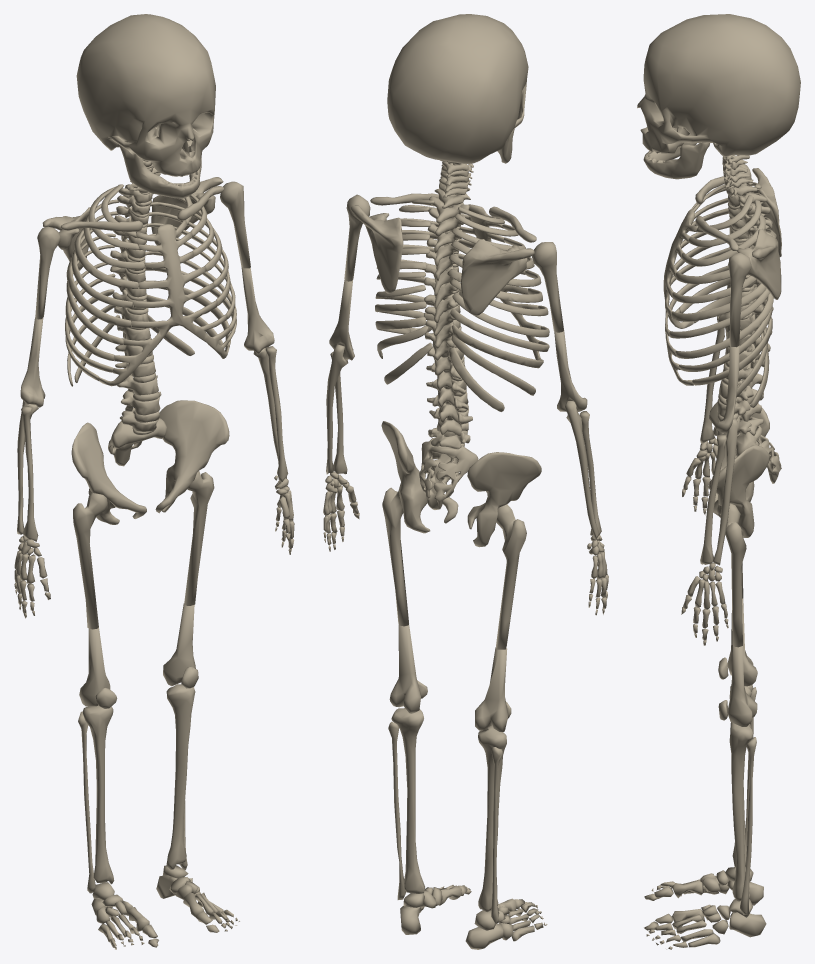
The model's file is pediatric_child_5y_male.skeletal.LOD2.glb.
3 renders of one model, left to right at view 1: azimuth 30°, elevation 25°; view 2: azimuth 150°, elevation 25°; view 3: azimuth 270°, elevation 25°, orthographic.
Parts seen in each view (by area): view 1: PEDIATRIC.CHILD_5Y.MALE.SKELETAL.CRANIUM_CORTICAL, PEDIATRIC.CHILD_5Y.MALE.SKELETAL.RIBS_CORTICAL, PEDIATRIC.CHILD_5Y.MALE.SKELETAL.PELVIS_CORTICAL, PEDIATRIC.CHILD_5Y.MALE.SKELETAL.CARTILAGE_TRUNK, PEDIATRIC.CHILD_5Y.MALE.SKELETAL.TIBIAE_CORTICAL, PEDIATRIC.CHILD_5Y.MALE.SKELETAL.ANKLES_AND_FOOT_CORTICAL, PEDIATRIC.CHILD_5Y.MALE.SKELETAL.FEMORA_UPPER_CORTICAL, PEDIATRIC.CHILD_5Y.MALE.SKELETAL.THORACIC_SPINE_CORTICAL, PEDIATRIC.CHILD_5Y.MALE.SKELETAL.FEMORA_LOWER_CORTICAL, PEDIATRIC.CHILD_5Y.MALE.SKELETAL.WRISTS_AND_HAND_BONES_CORTI, PEDIATRIC.CHILD_5Y.MALE.SKELETAL.HUMERI_LOWER_CORTICAL, PEDIATRIC.CHILD_5Y.MALE.SKELETAL.HUMERI_UPPER_CORTICAL (+9 smaller); view 2: PEDIATRIC.CHILD_5Y.MALE.SKELETAL.CRANIUM_CORTICAL, PEDIATRIC.CHILD_5Y.MALE.SKELETAL.RIBS_CORTICAL, PEDIATRIC.CHILD_5Y.MALE.SKELETAL.PELVIS_CORTICAL, PEDIATRIC.CHILD_5Y.MALE.SKELETAL.SCAPULAE_CORTICAL, PEDIATRIC.CHILD_5Y.MALE.SKELETAL.TIBIAE_CORTICAL, PEDIATRIC.CHILD_5Y.MALE.SKELETAL.THORACIC_SPINE_CORTICAL, PEDIATRIC.CHILD_5Y.MALE.SKELETAL.FEMORA_UPPER_CORTICAL, PEDIATRIC.CHILD_5Y.MALE.SKELETAL.ANKLES_AND_FOOT_CORTICAL, PEDIATRIC.CHILD_5Y.MALE.SKELETAL.FEMORA_LOWER_CORTICAL, PEDIATRIC.CHILD_5Y.MALE.SKELETAL.LUMBAR_SPINE_CORTICAL, PEDIATRIC.CHILD_5Y.MALE.SKELETAL.WRISTS_AND_HAND_BONES_CORTI, PEDIATRIC.CHILD_5Y.MALE.SKELETAL.SACRUM_CORTICAL (+8 smaller); view 3: PEDIATRIC.CHILD_5Y.MALE.SKELETAL.CRANIUM_CORTICAL, PEDIATRIC.CHILD_5Y.MALE.SKELETAL.RIBS_CORTICAL, PEDIATRIC.CHILD_5Y.MALE.SKELETAL.ANKLES_AND_FOOT_CORTICAL, PEDIATRIC.CHILD_5Y.MALE.SKELETAL.WRISTS_AND_HAND_BONES_CORTI, PEDIATRIC.CHILD_5Y.MALE.SKELETAL.PELVIS_CORTICAL, PEDIATRIC.CHILD_5Y.MALE.SKELETAL.SCAPULAE_CORTICAL, PEDIATRIC.CHILD_5Y.MALE.SKELETAL.TIBIAE_CORTICAL, PEDIATRIC.CHILD_5Y.MALE.SKELETAL.CARTILAGE_TRUNK, PEDIATRIC.CHILD_5Y.MALE.SKELETAL.FEMORA_LOWER_CORTICAL, PEDIATRIC.CHILD_5Y.MALE.SKELETAL.RADII_CORTICAL, PEDIATRIC.CHILD_5Y.MALE.SKELETAL.LUMBAR_SPINE_CORTICAL, PEDIATRIC.CHILD_5Y.MALE.SKELETAL.FEMORA_UPPER_CORTICAL (+9 smaller).
Boxes of the visible parts, left/top/right/bottom form: PEDIATRIC.CHILD_5Y.MALE.SKELETAL.CRANIUM_CORTICAL: left=76, top=14, right=215, bottom=176; PEDIATRIC.CHILD_5Y.MALE.SKELETAL.RIBS_CORTICAL: left=65, top=184, right=236, bottom=386; PEDIATRIC.CHILD_5Y.MALE.SKELETAL.PELVIS_CORTICAL: left=71, top=400, right=229, bottom=524; PEDIATRIC.CHILD_5Y.MALE.SKELETAL.CARTILAGE_TRUNK: left=98, top=159, right=229, bottom=434; PEDIATRIC.CHILD_5Y.MALE.SKELETAL.TIBIAE_CORTICAL: left=82, top=684, right=195, bottom=884; PEDIATRIC.CHILD_5Y.MALE.SKELETAL.ANKLES_AND_FOOT_CORTICAL: left=91, top=865, right=239, bottom=949; PEDIATRIC.CHILD_5Y.MALE.SKELETAL.FEMORA_UPPER_CORTICAL: left=73, top=471, right=214, bottom=629; PEDIATRIC.CHILD_5Y.MALE.SKELETAL.THORACIC_SPINE_CORTICAL: left=110, top=184, right=152, bottom=340; PEDIATRIC.CHILD_5Y.MALE.SKELETAL.FEMORA_LOWER_CORTICAL: left=79, top=603, right=195, bottom=706; PEDIATRIC.CHILD_5Y.MALE.SKELETAL.WRISTS_AND_HAND_BONES_CORTI: left=14, top=475, right=294, bottom=618; PEDIATRIC.CHILD_5Y.MALE.SKELETAL.HUMERI_LOWER_CORTICAL: left=20, top=267, right=274, bottom=407; PEDIATRIC.CHILD_5Y.MALE.SKELETAL.HUMERI_UPPER_CORTICAL: left=35, top=181, right=250, bottom=319; PEDIATRIC.CHILD_5Y.MALE.SKELETAL.CRANIUM_CORTICAL: left=387, top=14, right=528, bottom=164; PEDIATRIC.CHILD_5Y.MALE.SKELETAL.RIBS_CORTICAL: left=375, top=199, right=549, bottom=411; PEDIATRIC.CHILD_5Y.MALE.SKELETAL.PELVIS_CORTICAL: left=381, top=421, right=541, bottom=547; PEDIATRIC.CHILD_5Y.MALE.SKELETAL.SCAPULAE_CORTICAL: left=350, top=205, right=534, bottom=316; PEDIATRIC.CHILD_5Y.MALE.SKELETAL.TIBIAE_CORTICAL: left=391, top=708, right=506, bottom=912; PEDIATRIC.CHILD_5Y.MALE.SKELETAL.THORACIC_SPINE_CORTICAL: left=423, top=196, right=469, bottom=375; PEDIATRIC.CHILD_5Y.MALE.SKELETAL.FEMORA_UPPER_CORTICAL: left=382, top=483, right=526, bottom=649; PEDIATRIC.CHILD_5Y.MALE.SKELETAL.ANKLES_AND_FOOT_CORTICAL: left=400, top=885, right=547, bottom=949; PEDIATRIC.CHILD_5Y.MALE.SKELETAL.FEMORA_LOWER_CORTICAL: left=389, top=625, right=507, bottom=731; PEDIATRIC.CHILD_5Y.MALE.SKELETAL.LUMBAR_SPINE_CORTICAL: left=426, top=361, right=472, bottom=448; PEDIATRIC.CHILD_5Y.MALE.SKELETAL.WRISTS_AND_HAND_BONES_CORTI: left=323, top=472, right=608, bottom=615; PEDIATRIC.CHILD_5Y.MALE.SKELETAL.SACRUM_CORTICAL: left=419, top=437, right=478, bottom=509; PEDIATRIC.CHILD_5Y.MALE.SKELETAL.CRANIUM_CORTICAL: left=637, top=14, right=800, bottom=156; PEDIATRIC.CHILD_5Y.MALE.SKELETAL.RIBS_CORTICAL: left=669, top=182, right=776, bottom=407; PEDIATRIC.CHILD_5Y.MALE.SKELETAL.ANKLES_AND_FOOT_CORTICAL: left=644, top=867, right=766, bottom=949; PEDIATRIC.CHILD_5Y.MALE.SKELETAL.WRISTS_AND_HAND_BONES_CORTI: left=681, top=437, right=728, bottom=645; PEDIATRIC.CHILD_5Y.MALE.SKELETAL.PELVIS_CORTICAL: left=708, top=402, right=769, bottom=537; PEDIATRIC.CHILD_5Y.MALE.SKELETAL.SCAPULAE_CORTICAL: left=737, top=168, right=781, bottom=299; PEDIATRIC.CHILD_5Y.MALE.SKELETAL.TIBIAE_CORTICAL: left=729, top=685, right=753, bottom=901; PEDIATRIC.CHILD_5Y.MALE.SKELETAL.CARTILAGE_TRUNK: left=663, top=157, right=750, bottom=436; PEDIATRIC.CHILD_5Y.MALE.SKELETAL.FEMORA_LOWER_CORTICAL: left=727, top=598, right=757, bottom=726; PEDIATRIC.CHILD_5Y.MALE.SKELETAL.RADII_CORTICAL: left=700, top=315, right=726, bottom=564; PEDIATRIC.CHILD_5Y.MALE.SKELETAL.LUMBAR_SPINE_CORTICAL: left=717, top=344, right=764, bottom=435; PEDIATRIC.CHILD_5Y.MALE.SKELETAL.FEMORA_UPPER_CORTICAL: left=725, top=503, right=746, bottom=647.
Bounding box in the file's own units: 0.3467 × 1.09 × 0.1792.
